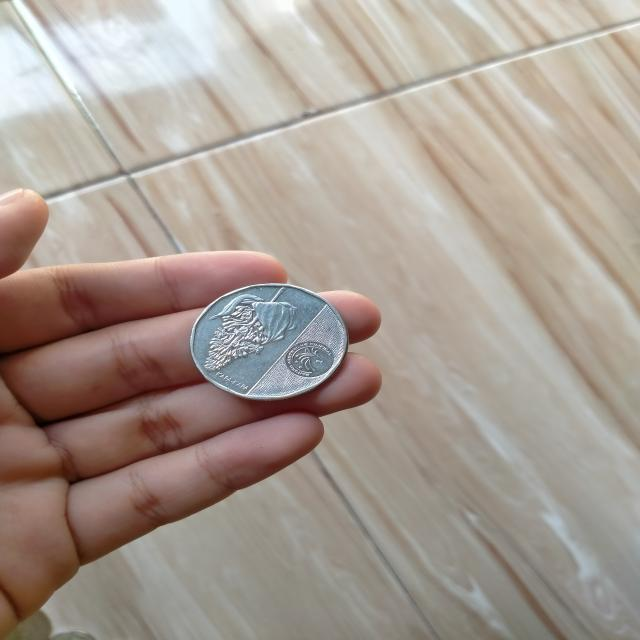10_New_Back: (200, 280, 296, 370)
